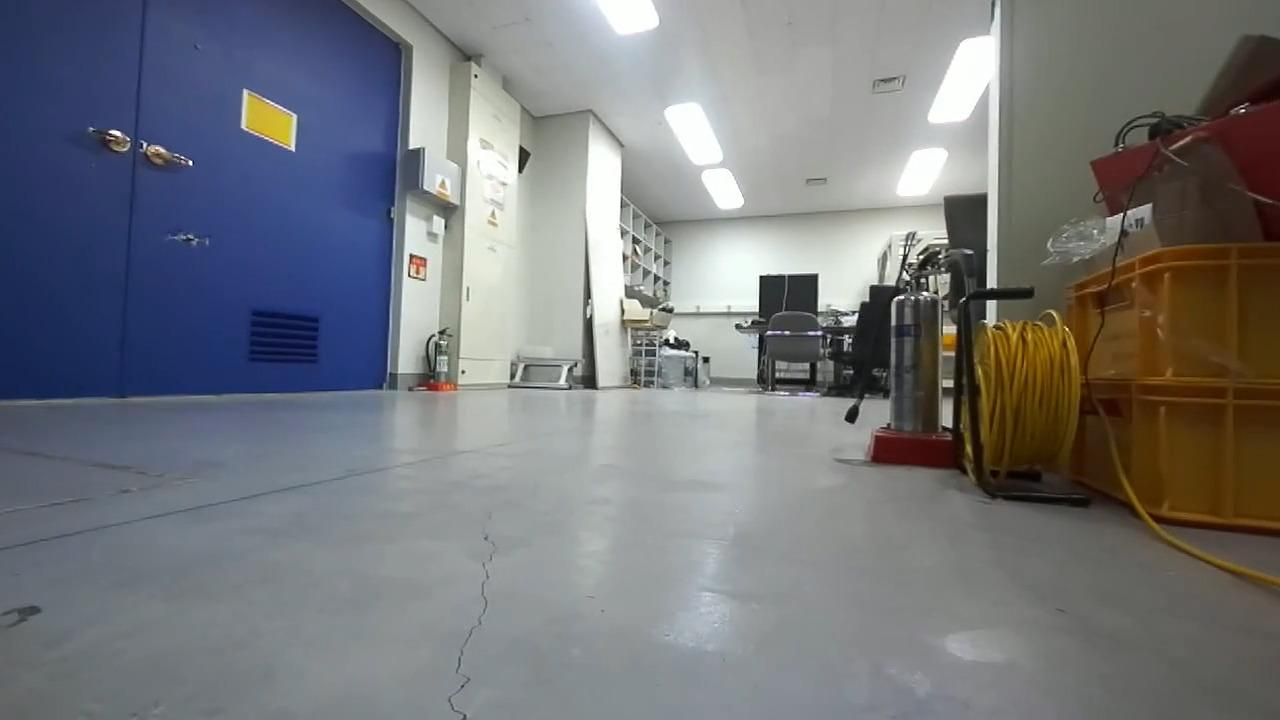crazyflie: (160, 226, 211, 249)
